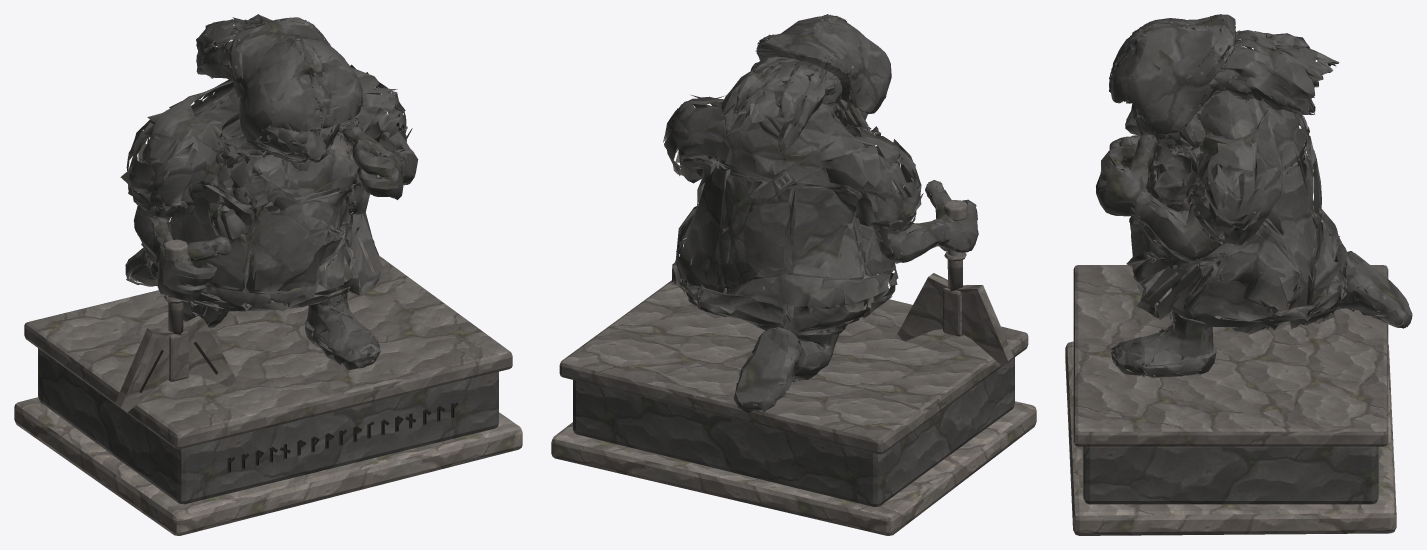
File: th_kneeling_mourner.glb
3 renders of one model, left to right at view 1: azimuth 30°, elevation 25°; view 2: azimuth 150°, elevation 25°; view 3: azimuth 270°, elevation 25°, orthographic. The views are drawn at different scales.
Parts seen in each view (by area): view 1: model; view 2: model; view 3: model.
Part boxes in pixels (x1,y1,x2,y2): model: [14, 14, 522, 535]; model: [551, 14, 1036, 535]; model: [1065, 14, 1412, 535].
Bounding box in the file's own units: 1.32 × 1.44 × 1.06.
4 materials, 3 textured.
